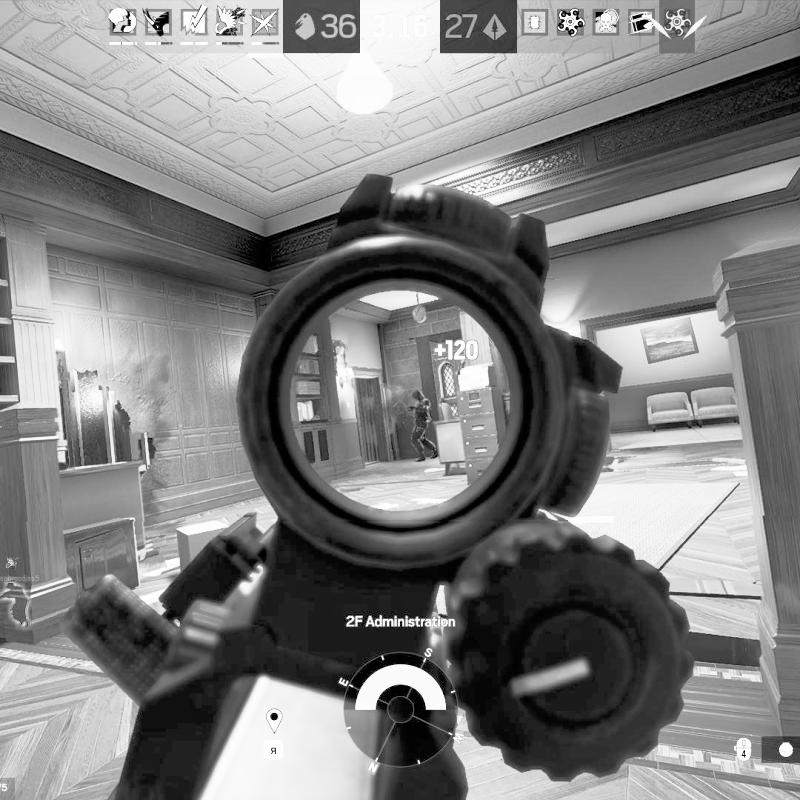Character: (404, 386, 441, 465)
Friend_label: (0, 555, 40, 583)
Head: (410, 388, 424, 402)
